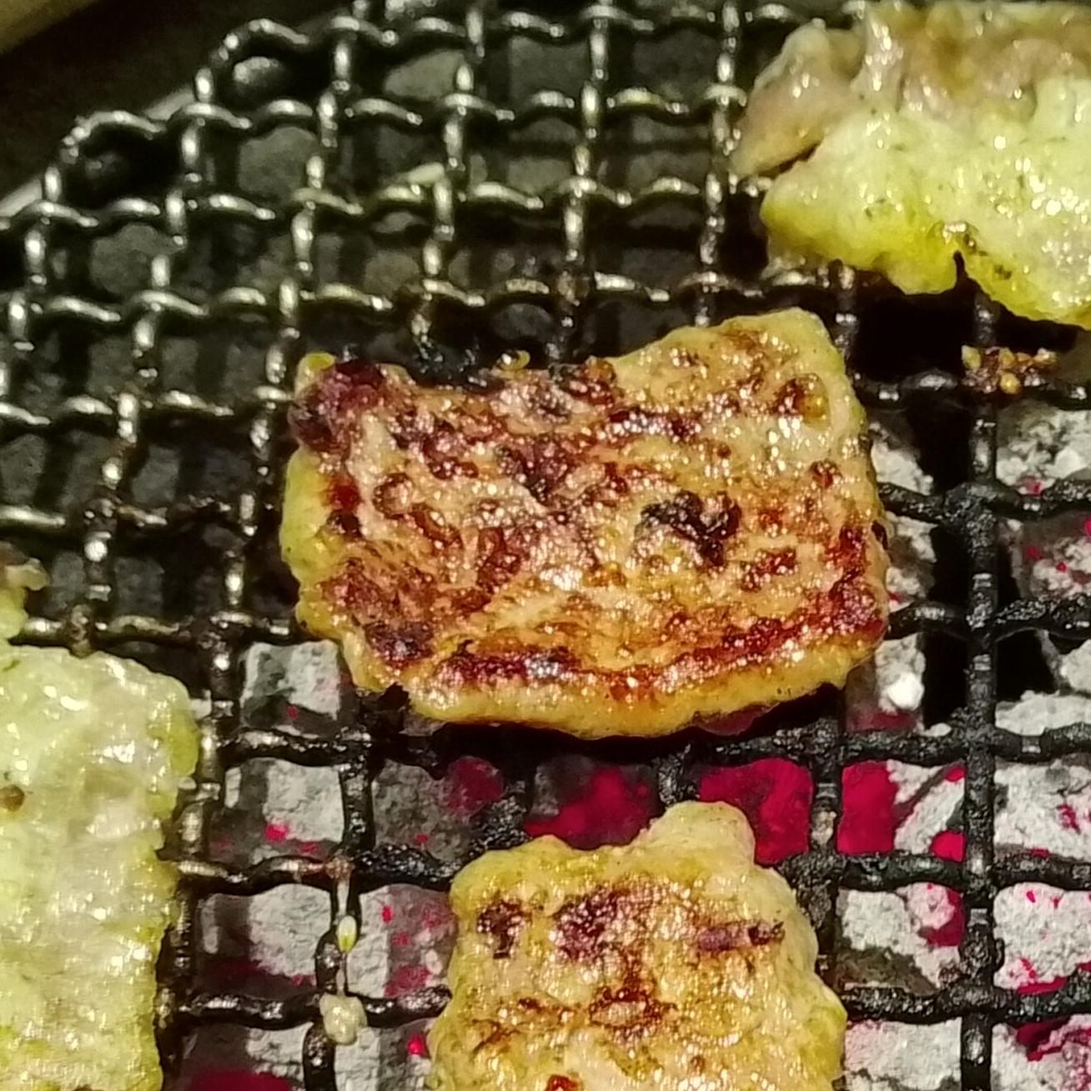Overcooked: (277, 310, 894, 747)
Well-Cooked: (727, 0, 1090, 335), (426, 806, 848, 1090), (0, 551, 206, 1090)
